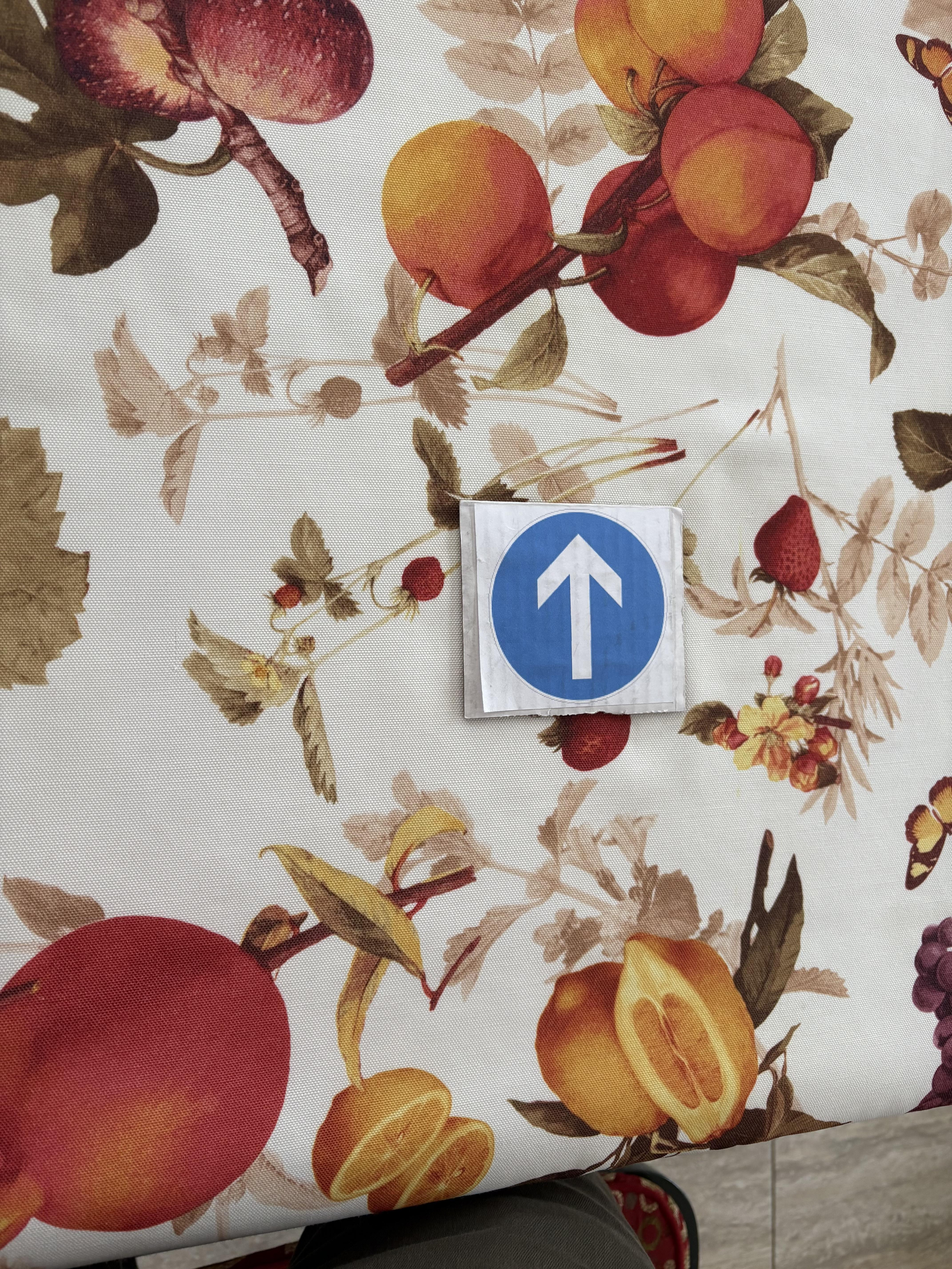Proceed Forward: (462, 504, 681, 709)
